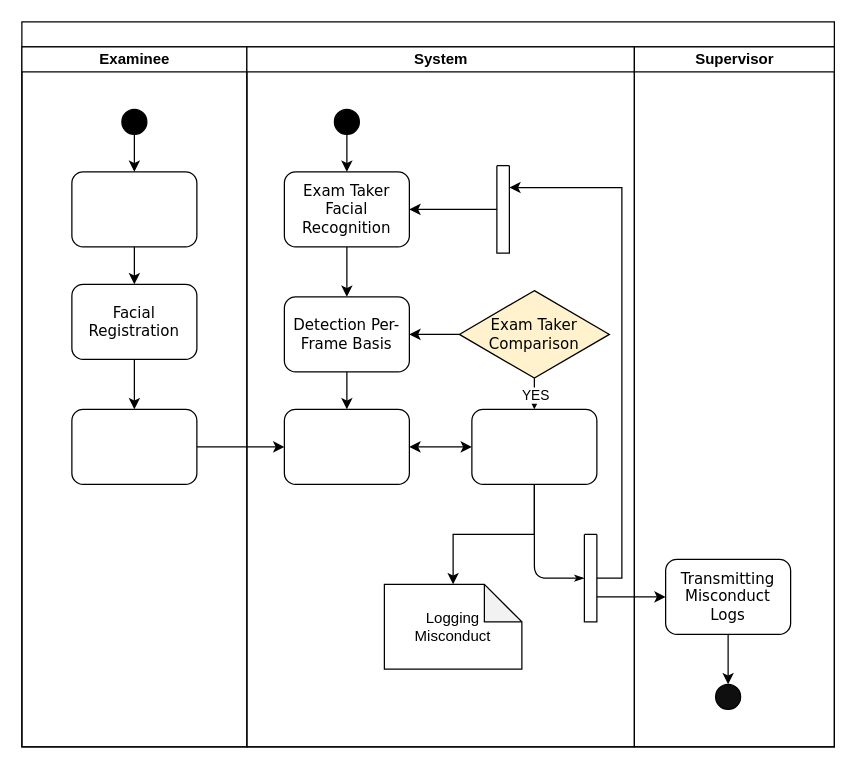
Image size: 856x769. Some labels were removed from this diagram. The centre of each missing label's shape, as x and y in pixels:
"Gaze Tracking" goes at pixel 346 446.
"Misconduct Detection" goes at pixel 534 446.
"Taking the Exam" goes at pixel 134 446.
"User Authentication" goes at pixel 134 209.
